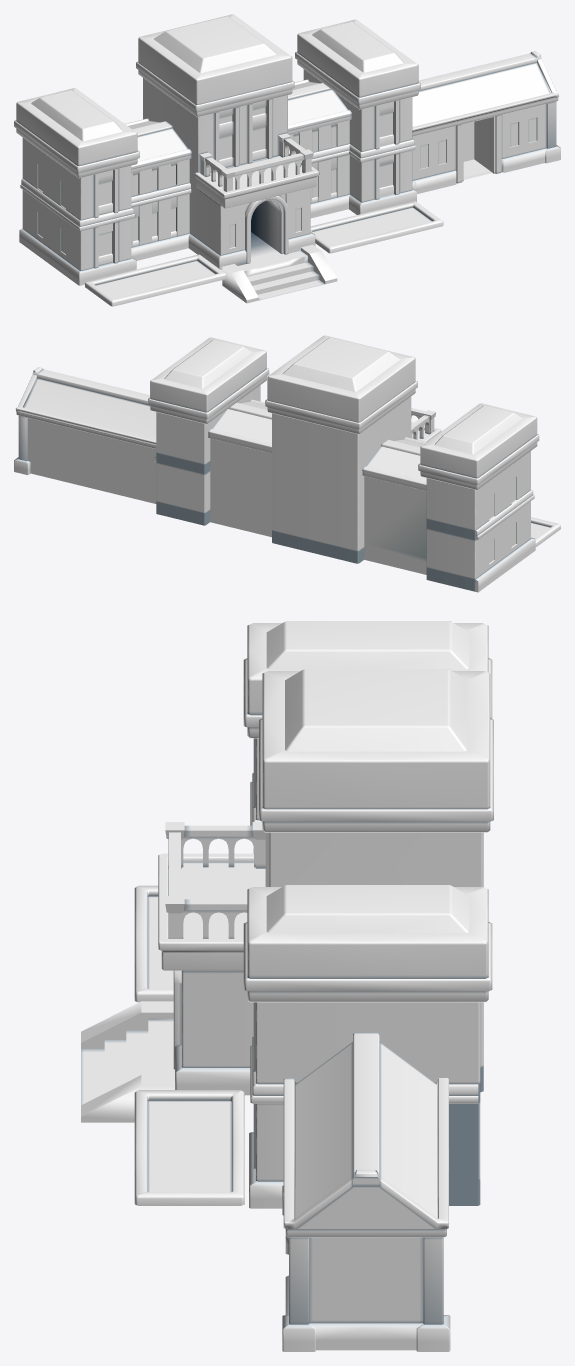
The model's file is pewter-museum.glb.
The picture shows the model from 3 angles, top to bottom: view 1: azimuth 30°, elevation 25°; view 2: azimuth 150°, elevation 25°; view 3: azimuth 270°, elevation 25°; orthographic projection. The views are drawn at different scales.
Parts seen in each view (by area): view 1: pewter-museum; view 2: pewter-museum; view 3: pewter-museum.
Part boxes in pixels (x1,y1,x2,y2): pewter-museum: (14,14,560,306); pewter-museum: (14,335,560,592); pewter-museum: (81,621,493,1351).
Bounding box in the file's own units: 16.35 × 6.3 × 6.15.
